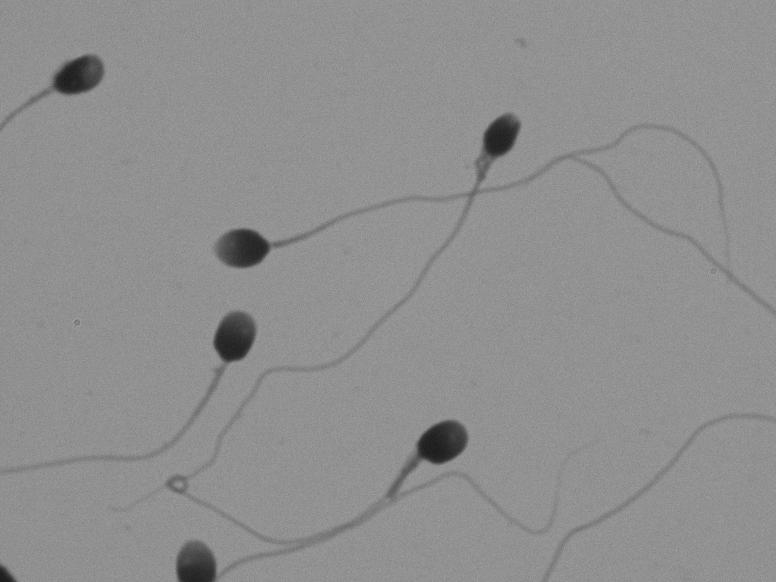Abnormal: (334, 70, 547, 398), (324, 401, 489, 529), (17, 32, 122, 150)
Normal: (8, 292, 264, 496), (202, 164, 457, 286)
